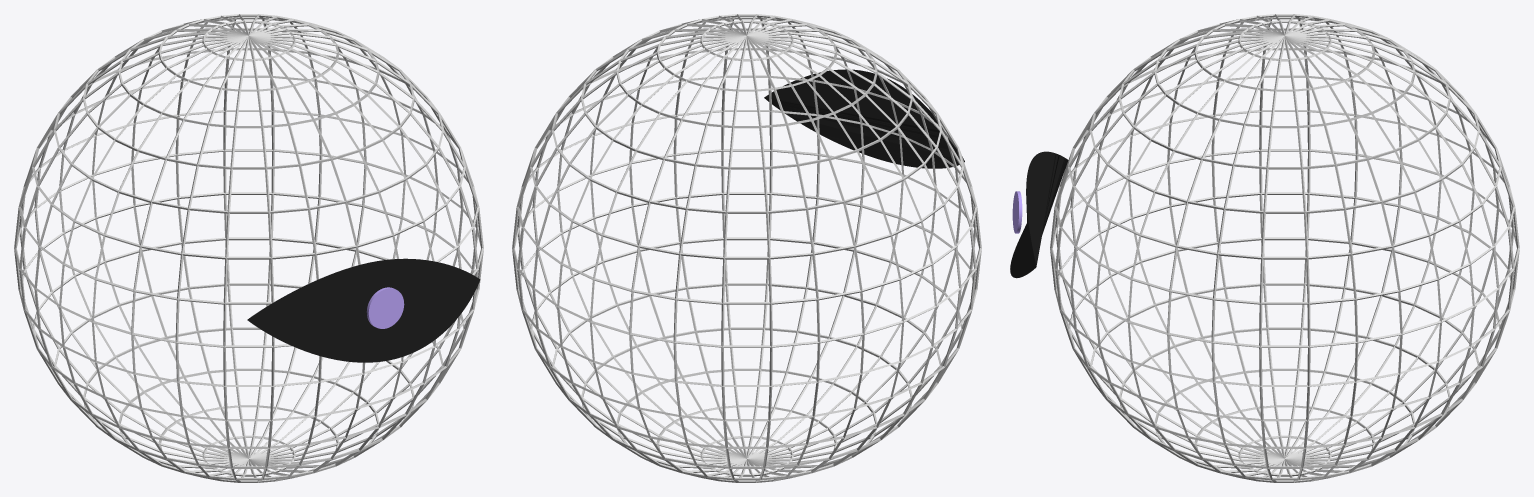
File: globe-wireframe.glb
The picture shows the model from 3 angles, left to right: view 1: azimuth 30°, elevation 25°; view 2: azimuth 150°, elevation 25°; view 3: azimuth 270°, elevation 25°; orthographic projection.
Parts seen in each view (by area): view 1: globe, eye-border, cornea; view 2: globe, eye-border; view 3: globe, eye-border.
Boxes of the visible parts, left/top/right/bottom form: globe: left=14, top=14, right=483, bottom=482; eye-border: left=247, top=258, right=480, bottom=362; cornea: left=366, top=287, right=404, bottom=328; globe: left=512, top=14, right=981, bottom=482; eye-border: left=764, top=69, right=964, bottom=168; globe: left=1050, top=14, right=1519, bottom=482; eye-border: left=1010, top=151, right=1068, bottom=278.
Size of the model in its own units: 2 by 2.01 by 2.18.
